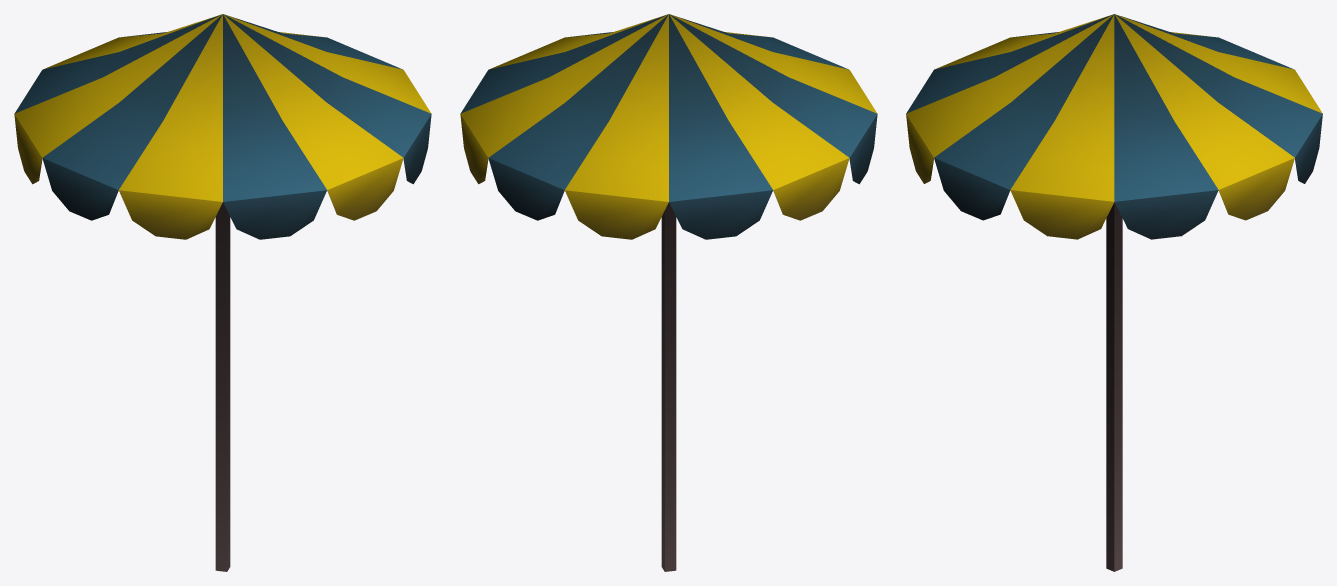
The model's file is Umbrella_3D.fbx.
The picture shows the model from 3 angles, left to right: view 1: azimuth 30°, elevation 25°; view 2: azimuth 150°, elevation 25°; view 3: azimuth 270°, elevation 25°; orthographic projection.
Visible parts, largest first — view 1: Umbrella_3D; view 2: Umbrella_3D; view 3: Umbrella_3D.
Boxes of the visible parts, x1,y1,x2,y2 form: Umbrella_3D: [14, 14, 431, 571]; Umbrella_3D: [460, 14, 877, 571]; Umbrella_3D: [906, 14, 1322, 571].
Bounding box in the file's own units: 193 × 283 × 193.
